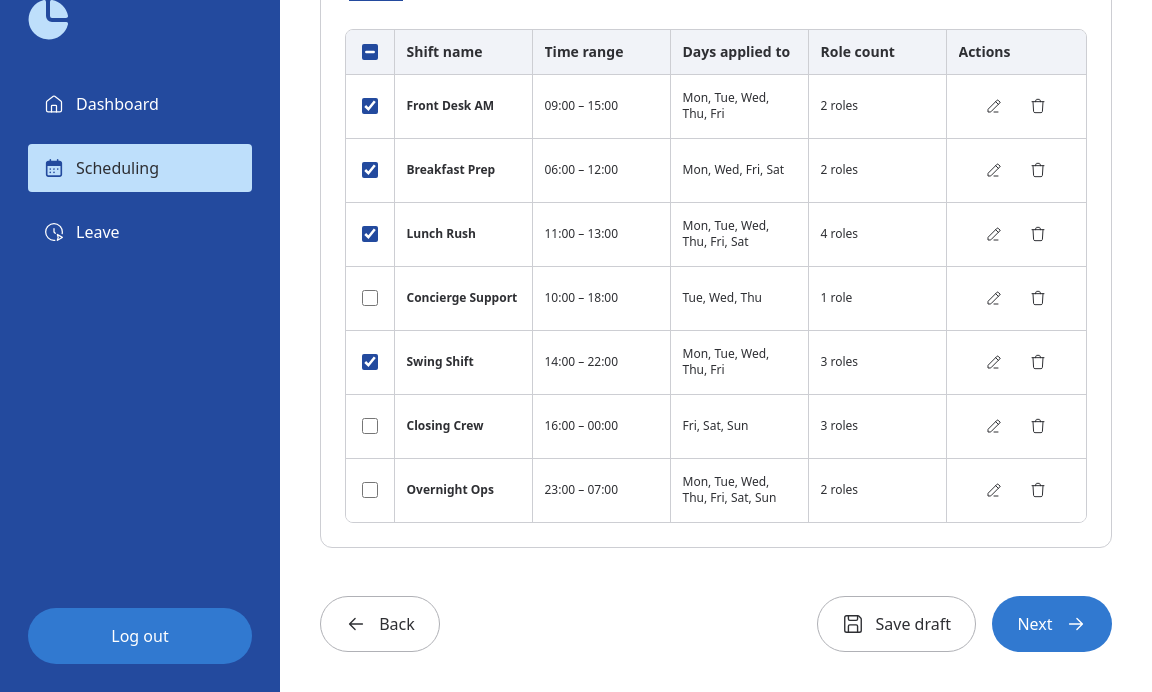
Create Schedule: a reopened draft › given_changedTicks_when_draftSaved_then_putsTheSetupWithTheTickedShifts
The width and height of the screenshot is (1152, 692).
(page scrolled)
expect the row "Front Desk AM 09:00 – 15:00 Mon, Tue, Wed, Thu, Fri 2 roles" is shown: met, box [346,74,1086,138]
Click the checkbox next to "Swing Shift" at [370, 362], box [362,354,378,370]
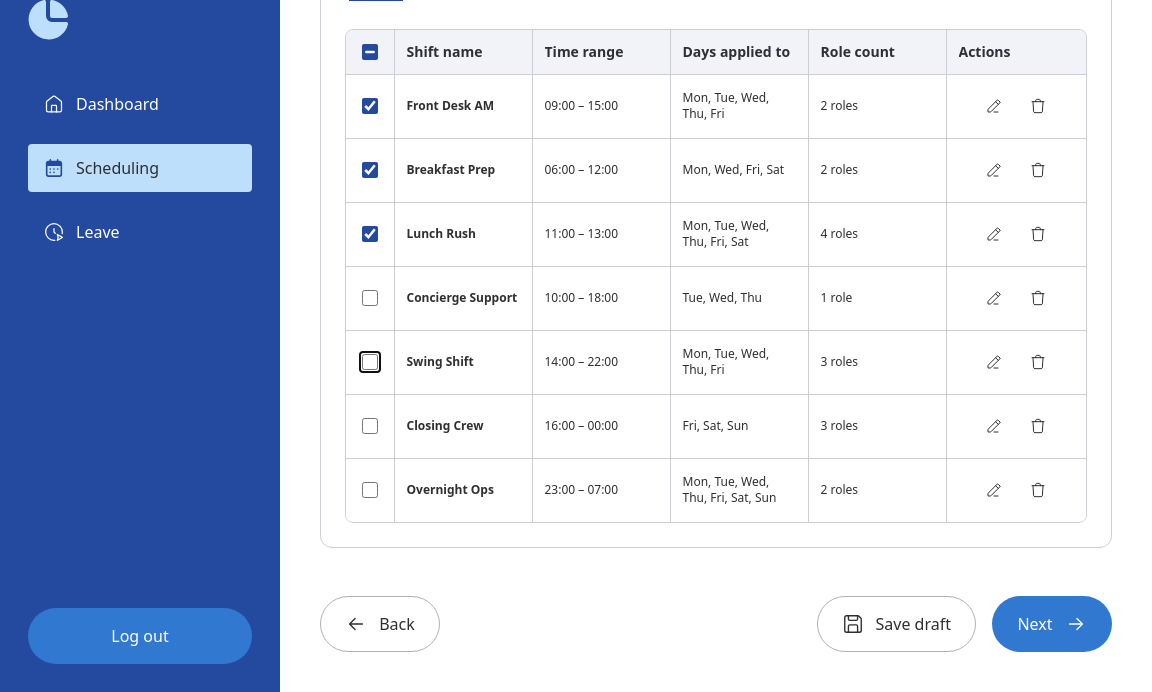
Click the checkbox next to "Overnight Ops" at [370, 490], box [362,482,378,498]
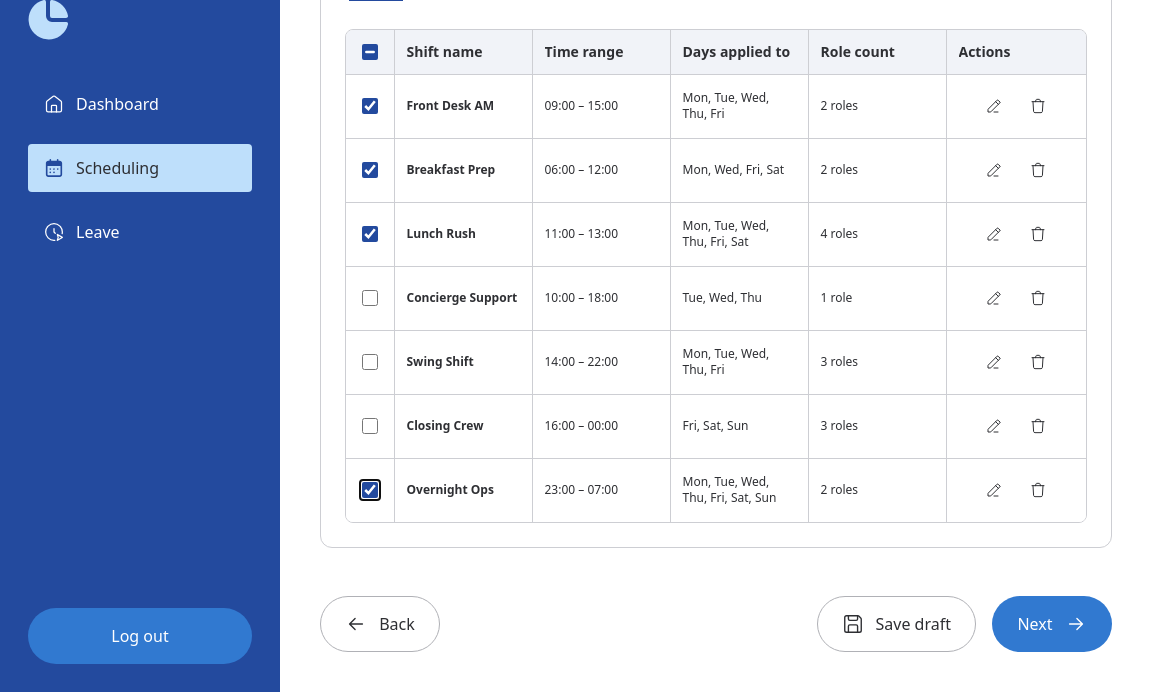
Click the button "Save draft" at [896, 624], box [816,596,976,652]
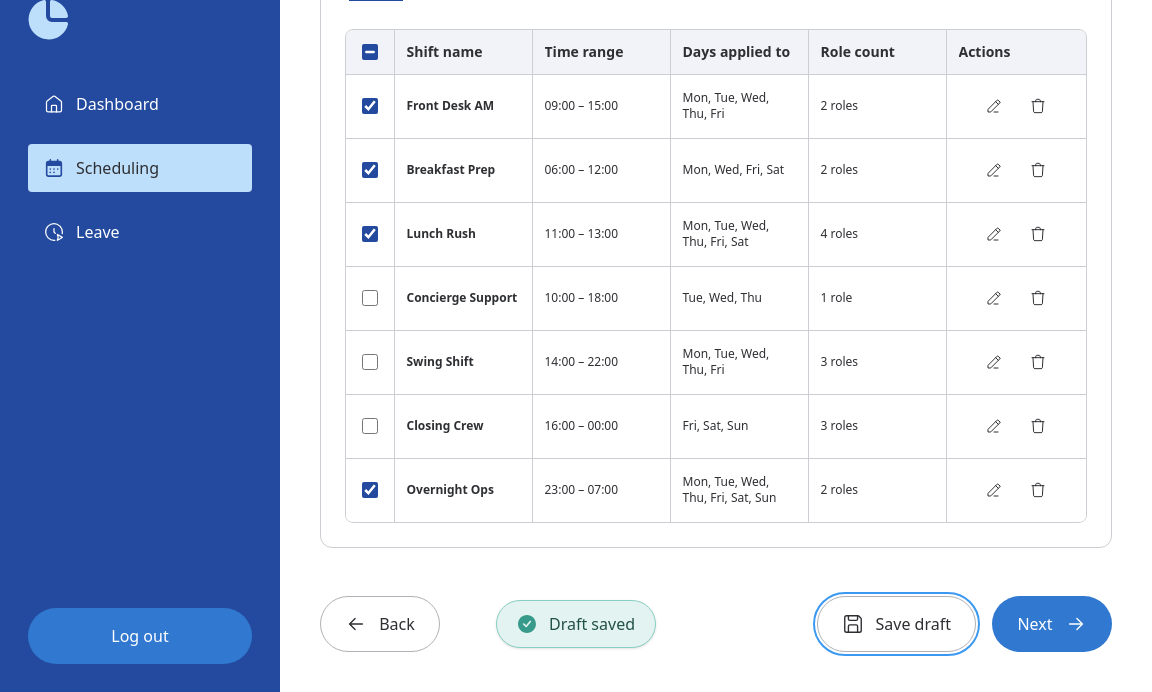
expect the message reads "Draft saved": met, box [549,613,635,635]
